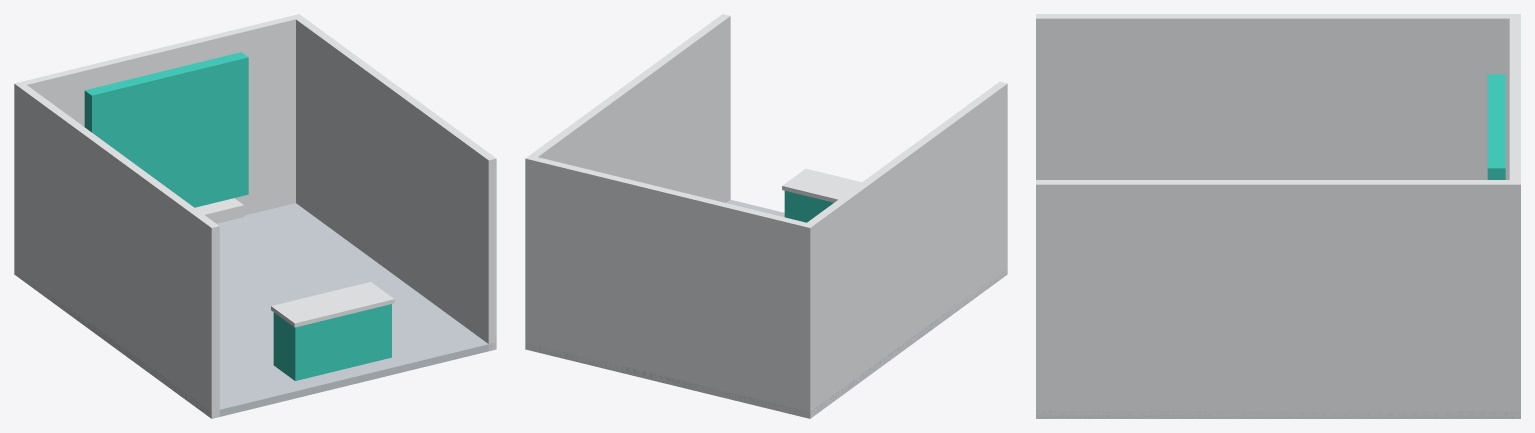
3 renders of one model, left to right at view 1: azimuth 30°, elevation 25°; view 2: azimuth 150°, elevation 25°; view 3: azimuth 270°, elevation 25°, orthographic. The views are drawn at different scales.
Parts seen in each view (by area): view 1: Exhibition Booth Concept; view 2: Exhibition Booth Concept; view 3: Exhibition Booth Concept.
Boxes of the visible parts, x1,y1,x2,y2 form: Exhibition Booth Concept: [14, 14, 496, 418]; Exhibition Booth Concept: [525, 14, 1007, 418]; Exhibition Booth Concept: [1036, 14, 1520, 418].
Size of the model in its own units: 5 by 3.2 by 6.
